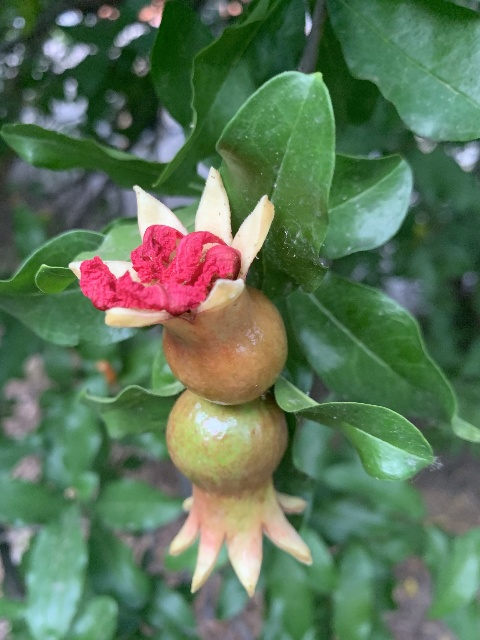early-fruit: (74, 170, 284, 405), (165, 390, 312, 597)
